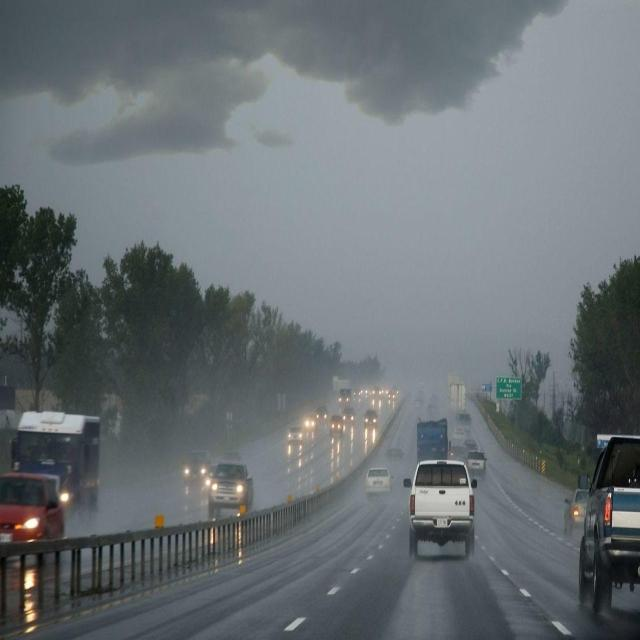Car: (577, 434, 640, 618), (404, 460, 480, 561), (0, 472, 67, 564), (205, 462, 255, 518), (564, 488, 592, 535), (362, 466, 394, 500), (181, 450, 211, 480), (466, 453, 488, 478), (328, 415, 344, 435), (363, 408, 378, 428), (287, 426, 304, 442), (342, 409, 357, 426), (305, 413, 317, 431), (316, 406, 329, 422), (464, 440, 477, 453), (453, 428, 465, 439)
Truck: (10, 411, 102, 527), (417, 418, 451, 463), (449, 382, 467, 418), (338, 386, 352, 410)
Van: (457, 412, 471, 432)
